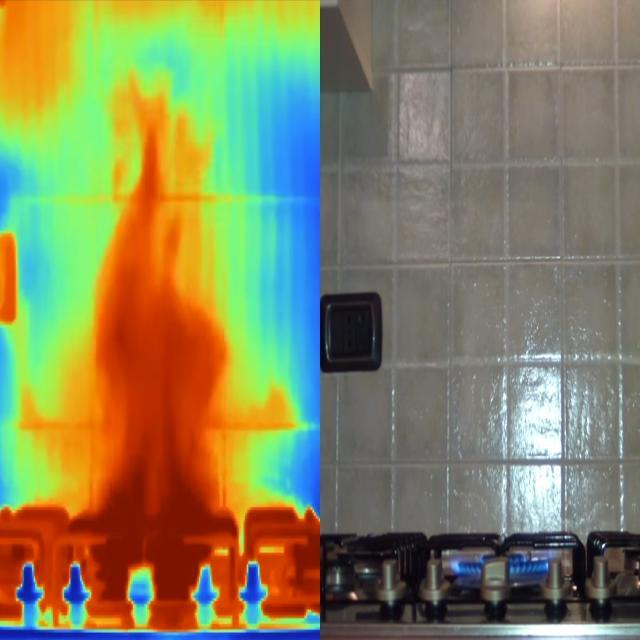fire: (80, 443, 215, 599)
